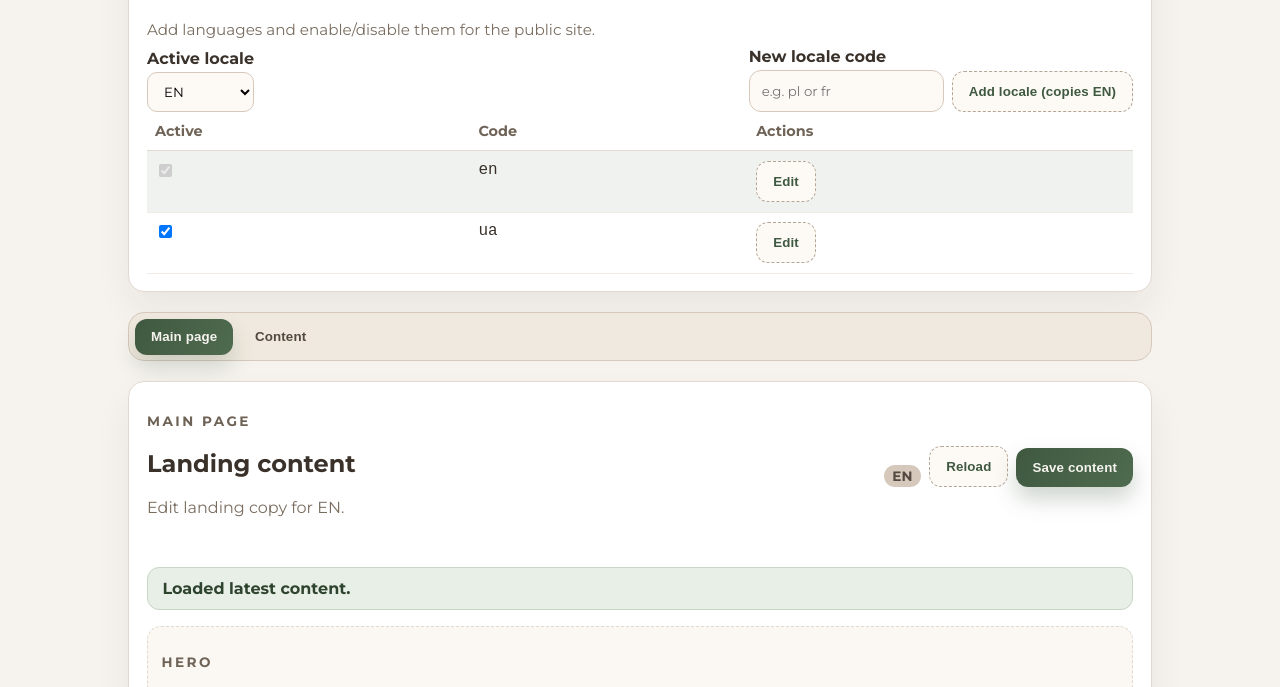
Scenario: AdminComponent (tabs + locales) › lazy-loads pages and leads based on selected tab
(page scrolled)
Click the button "Content": (281, 337) [239,319,322,355]
(page scrolled)
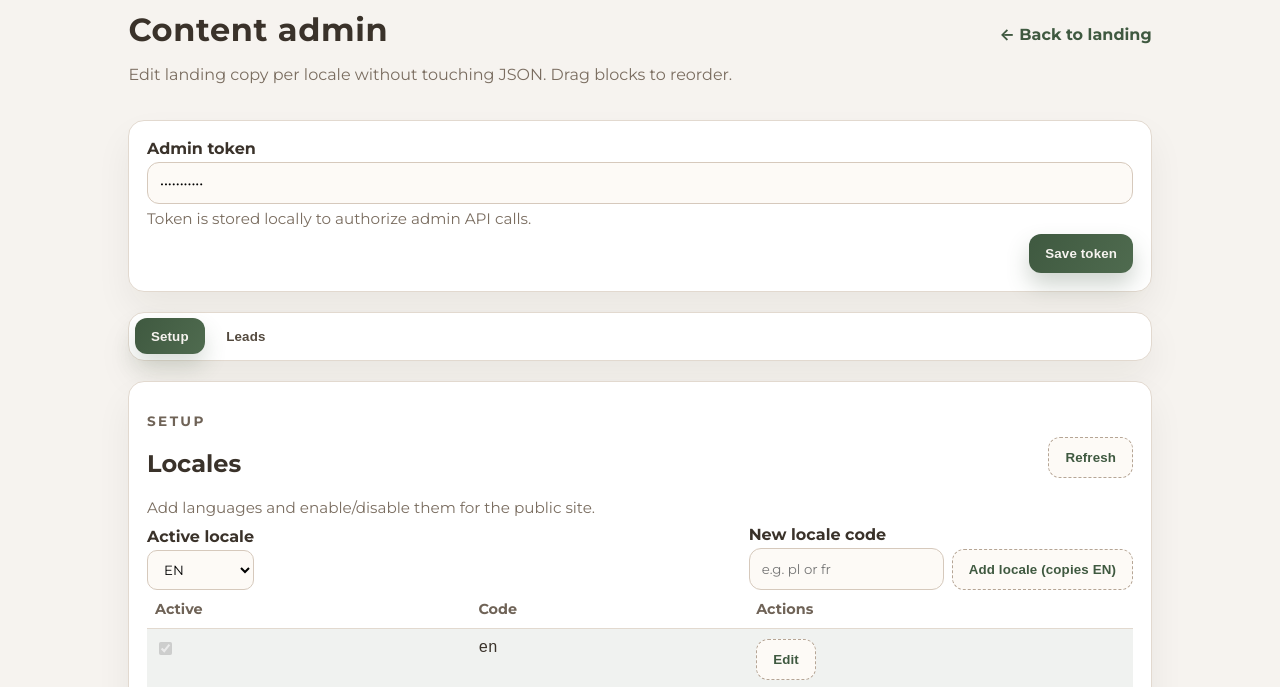
Click the button "Leads": (246, 336) [210,318,282,354]
(page scrolled)
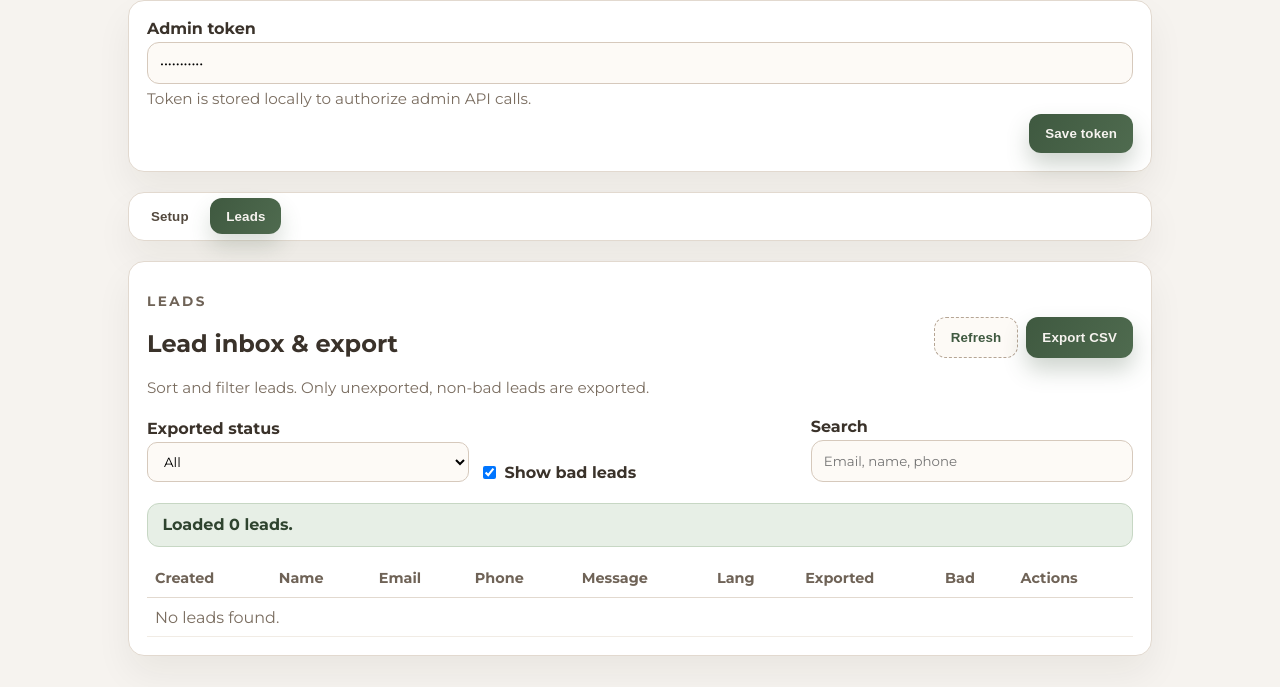
Check: the element with class "leads-card" is shown, box [128,260,1152,656]
